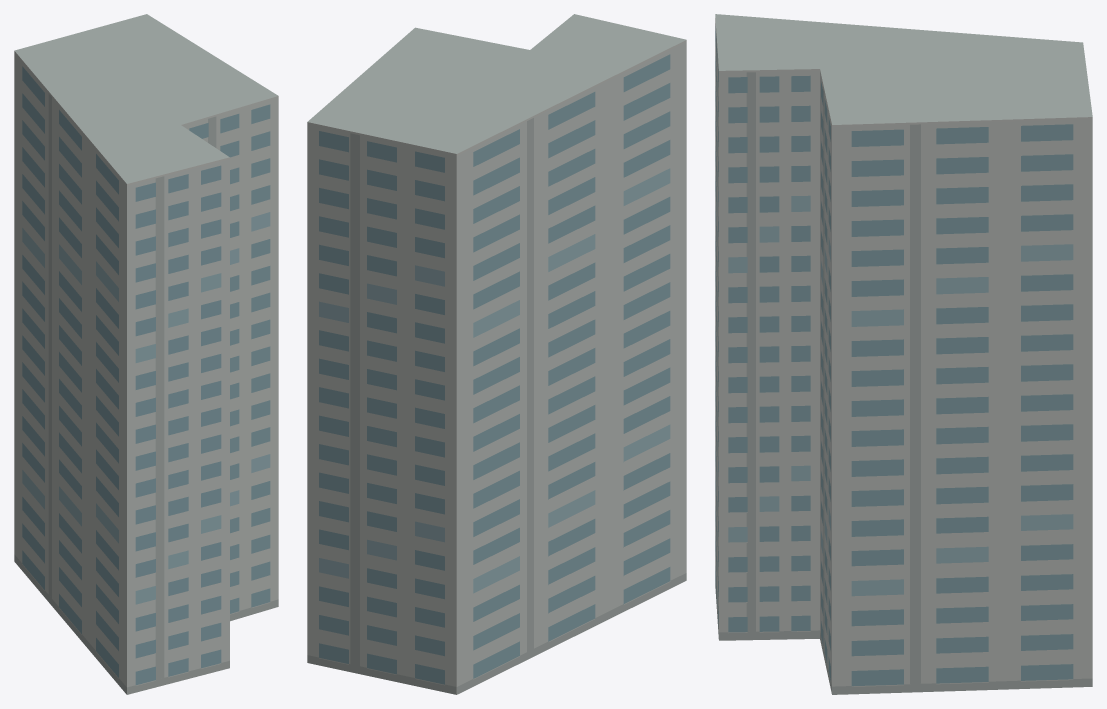
File: residential-2ce91c73-9d78-4762-9431-b8d4260771d0.glb
The picture shows the model from 3 angles, left to right: view 1: azimuth 30°, elevation 25°; view 2: azimuth 150°, elevation 25°; view 3: azimuth 270°, elevation 25°; orthographic projection. The views are drawn at different scales.
Visible parts, largest first — view 1: residential-2ce91c73-9d78-4762-9431-b8d4260771d0.tmp; view 2: residential-2ce91c73-9d78-4762-9431-b8d4260771d0.tmp; view 3: residential-2ce91c73-9d78-4762-9431-b8d4260771d0.tmp.
Part boxes in pixels (x1,y1,x2,y2): residential-2ce91c73-9d78-4762-9431-b8d4260771d0.tmp: (14, 14, 278, 694); residential-2ce91c73-9d78-4762-9431-b8d4260771d0.tmp: (307, 14, 686, 694); residential-2ce91c73-9d78-4762-9431-b8d4260771d0.tmp: (715, 14, 1092, 694).
Size of the model in its own units: 28.03 by 67 by 40.24.
